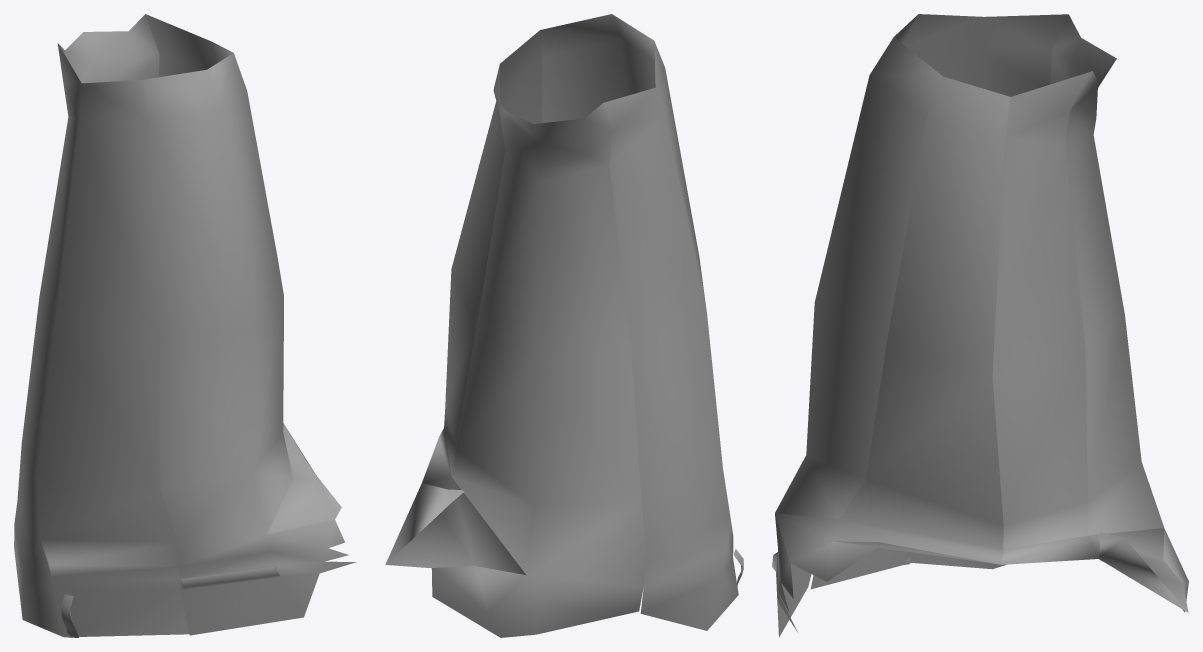
Rendered from left_up_leg.glb.
3 views of the same model, side by side, from view 1: azimuth 30°, elevation 25°; view 2: azimuth 150°, elevation 25°; view 3: azimuth 270°, elevation 25° (orthographic). The views are drawn at different scales.
Visible parts, largest first — view 1: trousers-grey_LEFT_UP_LEG; view 2: trousers-grey_LEFT_UP_LEG; view 3: trousers-grey_LEFT_UP_LEG.
Part boxes in pixels (x1,y1,x2,y2): trousers-grey_LEFT_UP_LEG: (14,14,356,637); trousers-grey_LEFT_UP_LEG: (385,14,743,637); trousers-grey_LEFT_UP_LEG: (772,14,1188,637).
Bounding box in the file's own units: 0.2605 × 0.5071 × 0.3154.
1 material, 1 textured.
